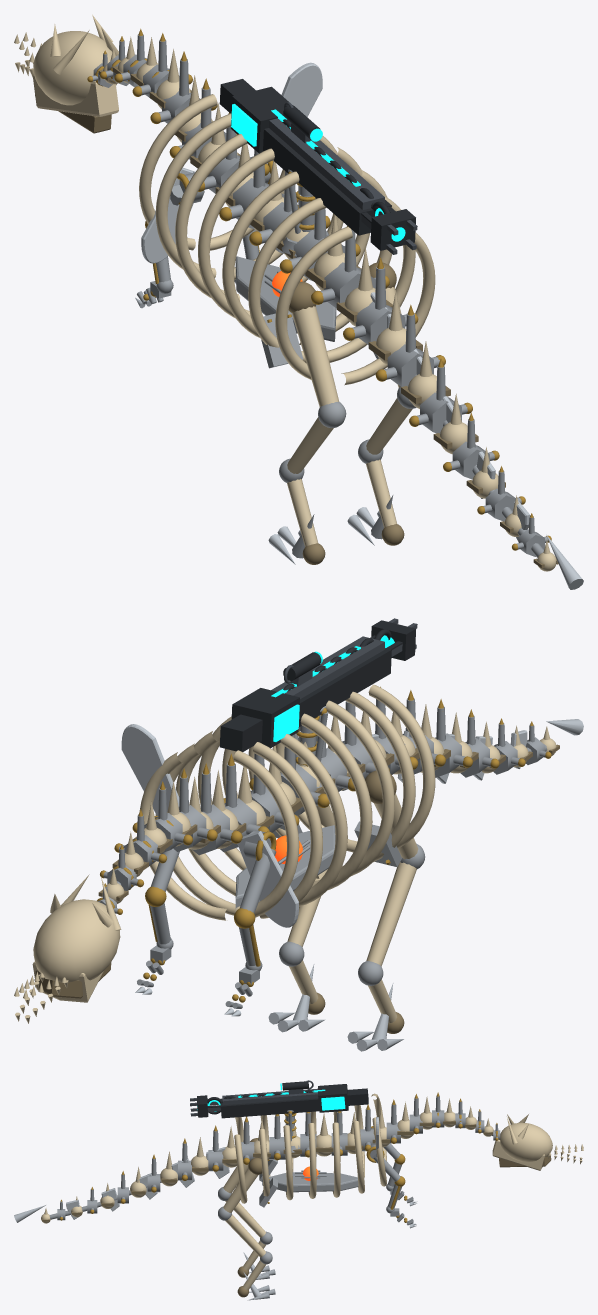
Rendered from raptor-war-machine.glb.
The picture shows the model from 3 angles, top to bottom: view 1: azimuth 30°, elevation 25°; view 2: azimuth 150°, elevation 25°; view 3: azimuth 270°, elevation 25°; orthographic projection. The views are drawn at different scales.
Parts seen in each view (by area): view 1: cranium, railgun_chassis, rib_3_l, rib_2_l, railgun_ridge, rib_0_l, rib_4_l, rib_1_l, rib_5_l, femur_-1, rib_6_l, sternum (+16 smaller); view 2: cranium, rib_3_l, rib_4_l, rib_2_l, rib_6_l, railgun_chassis, rib_5_l, rib_0_l, rib_1_l, pauldron_blade_r, tibia_-1, pauldron_blade_l (+20 smaller); view 3: cranium, railgun_chassis, sternum, railgun_ridge, breech, rib_3_r, rib_2_r, rib_4_r, rib_5_r, rib_0_r, tibia_1, rib_1_r (+7 smaller).
Part boxes in pixels (bbox=[...]): cranium: bbox=[33, 31, 116, 105]; railgun_chassis: bbox=[263, 128, 391, 235]; rib_3_l: bbox=[198, 148, 274, 318]; rib_2_l: bbox=[222, 171, 299, 337]; railgun_ridge: bbox=[269, 118, 384, 209]; rib_0_l: bbox=[275, 226, 352, 379]; rib_4_l: bbox=[175, 134, 247, 300]; rib_1_l: bbox=[248, 198, 326, 363]; rib_5_l: bbox=[155, 113, 231, 277]; femur_-1: bbox=[292, 306, 339, 406]; rib_6_l: bbox=[139, 94, 217, 250]; sternum: bbox=[235, 256, 336, 341]; cranium: bbox=[33, 899, 120, 982]; rib_3_l: bbox=[300, 713, 372, 889]; rib_4_l: bbox=[280, 734, 347, 906]; rib_2_l: bbox=[326, 700, 394, 875]; rib_6_l: bbox=[233, 750, 299, 917]; railgun_chassis: bbox=[299, 648, 391, 726]; rib_5_l: bbox=[253, 742, 322, 918]; rib_0_l: bbox=[368, 684, 435, 848]; rib_1_l: bbox=[345, 691, 415, 862]; pauldron_blade_r: bbox=[121, 724, 179, 815]; tibia_-1: bbox=[366, 862, 416, 966]; pauldron_blade_l: bbox=[237, 831, 298, 927]; cranium: bbox=[500, 1122, 552, 1161]; railgun_chassis: bbox=[220, 1098, 319, 1118]; sternum: bbox=[262, 1172, 358, 1192]; railgun_ridge: bbox=[222, 1088, 318, 1105]; breech: bbox=[318, 1084, 348, 1112]; rib_3_r: bbox=[308, 1123, 316, 1198]; rib_2_r: bbox=[283, 1125, 293, 1200]; rib_4_r: bbox=[332, 1122, 340, 1197]; rib_5_r: bbox=[353, 1121, 364, 1193]; rib_0_r: bbox=[234, 1134, 247, 1203]; tibia_1: bbox=[225, 1214, 265, 1257]; rib_1_r: bbox=[259, 1129, 269, 1200].
Bounding box in the file's own units: 0.755 × 1.58 × 3.92.
